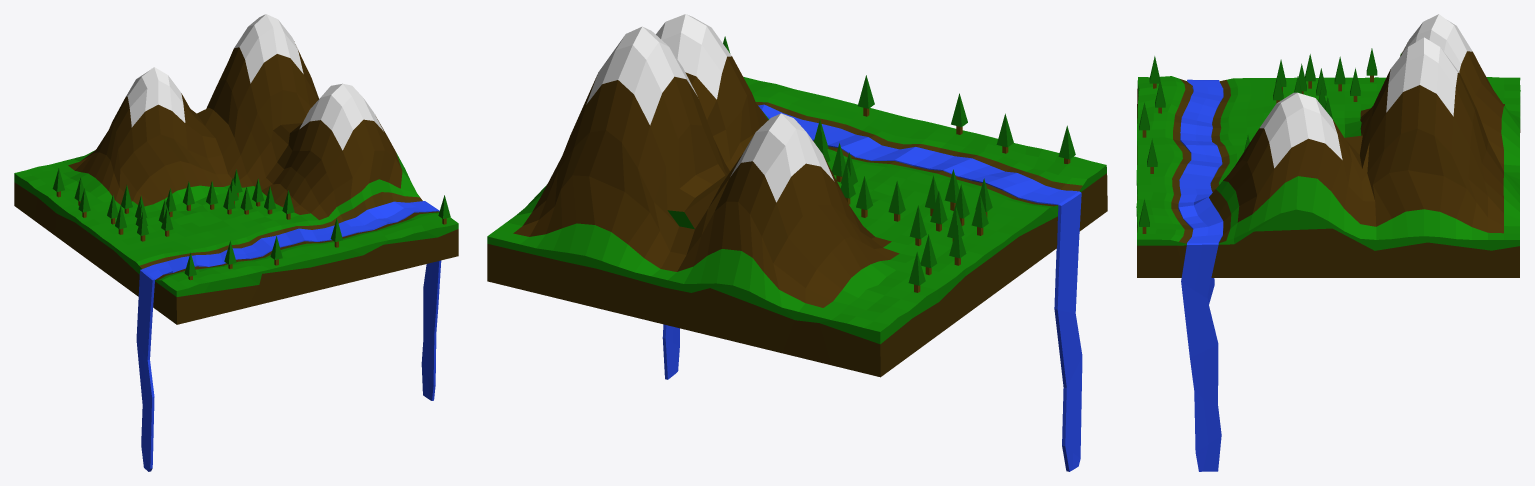
3 views of the same model, side by side, from view 1: azimuth 30°, elevation 25°; view 2: azimuth 150°, elevation 25°; view 3: azimuth 270°, elevation 25° (orthographic). The views are drawn at different scales.
Visible parts, largest first — view 1: Mountain, Grass, Ground, Watter, Snow, Trunk, Mud; view 2: Mountain, Grass, Ground, Watter, Snow, Trunk, Mud; view 3: Mountain, Grass, Ground, Watter, Snow, Trunk, Mud.
Boxes of the visible parts, x1,y1,x2,y2 form: Mountain: (68,41,402,219); Grass: (14,150,458,296); Ground: (14,182,458,324); Watter: (136,201,441,471); Snow: (126,14,383,150); Trunk: (52,168,450,280); Mud: (139,192,439,280); Mountain: (513,56,899,307); Grass: (487,77,1106,344); Ground: (487,173,1107,377); Watter: (662,104,1082,471); Snow: (586,14,834,202); Trunk: (723,36,1075,292); Mud: (755,102,1082,206); Mountain: (1223,42,1505,233); Grass: (1136,76,1520,250); Ground: (1137,88,1520,277); Watter: (1178,79,1223,471); Snow: (1259,14,1472,168); Trunk: (1139,48,1401,233); Mud: (1171,79,1231,243).
Size of the model in its own units: 409 by 453 by 401.
